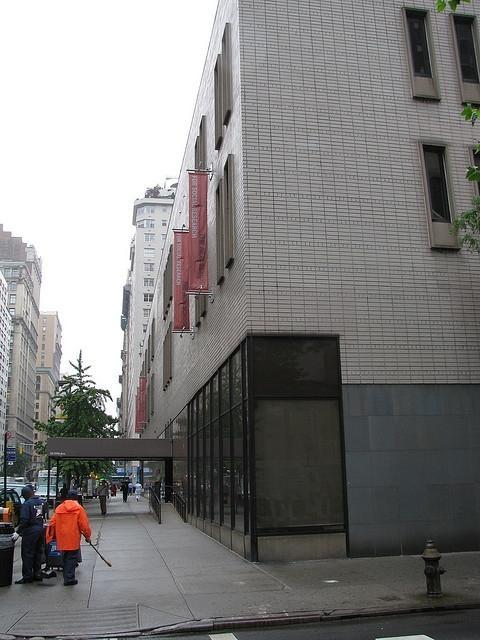car: (0, 488, 21, 524)
